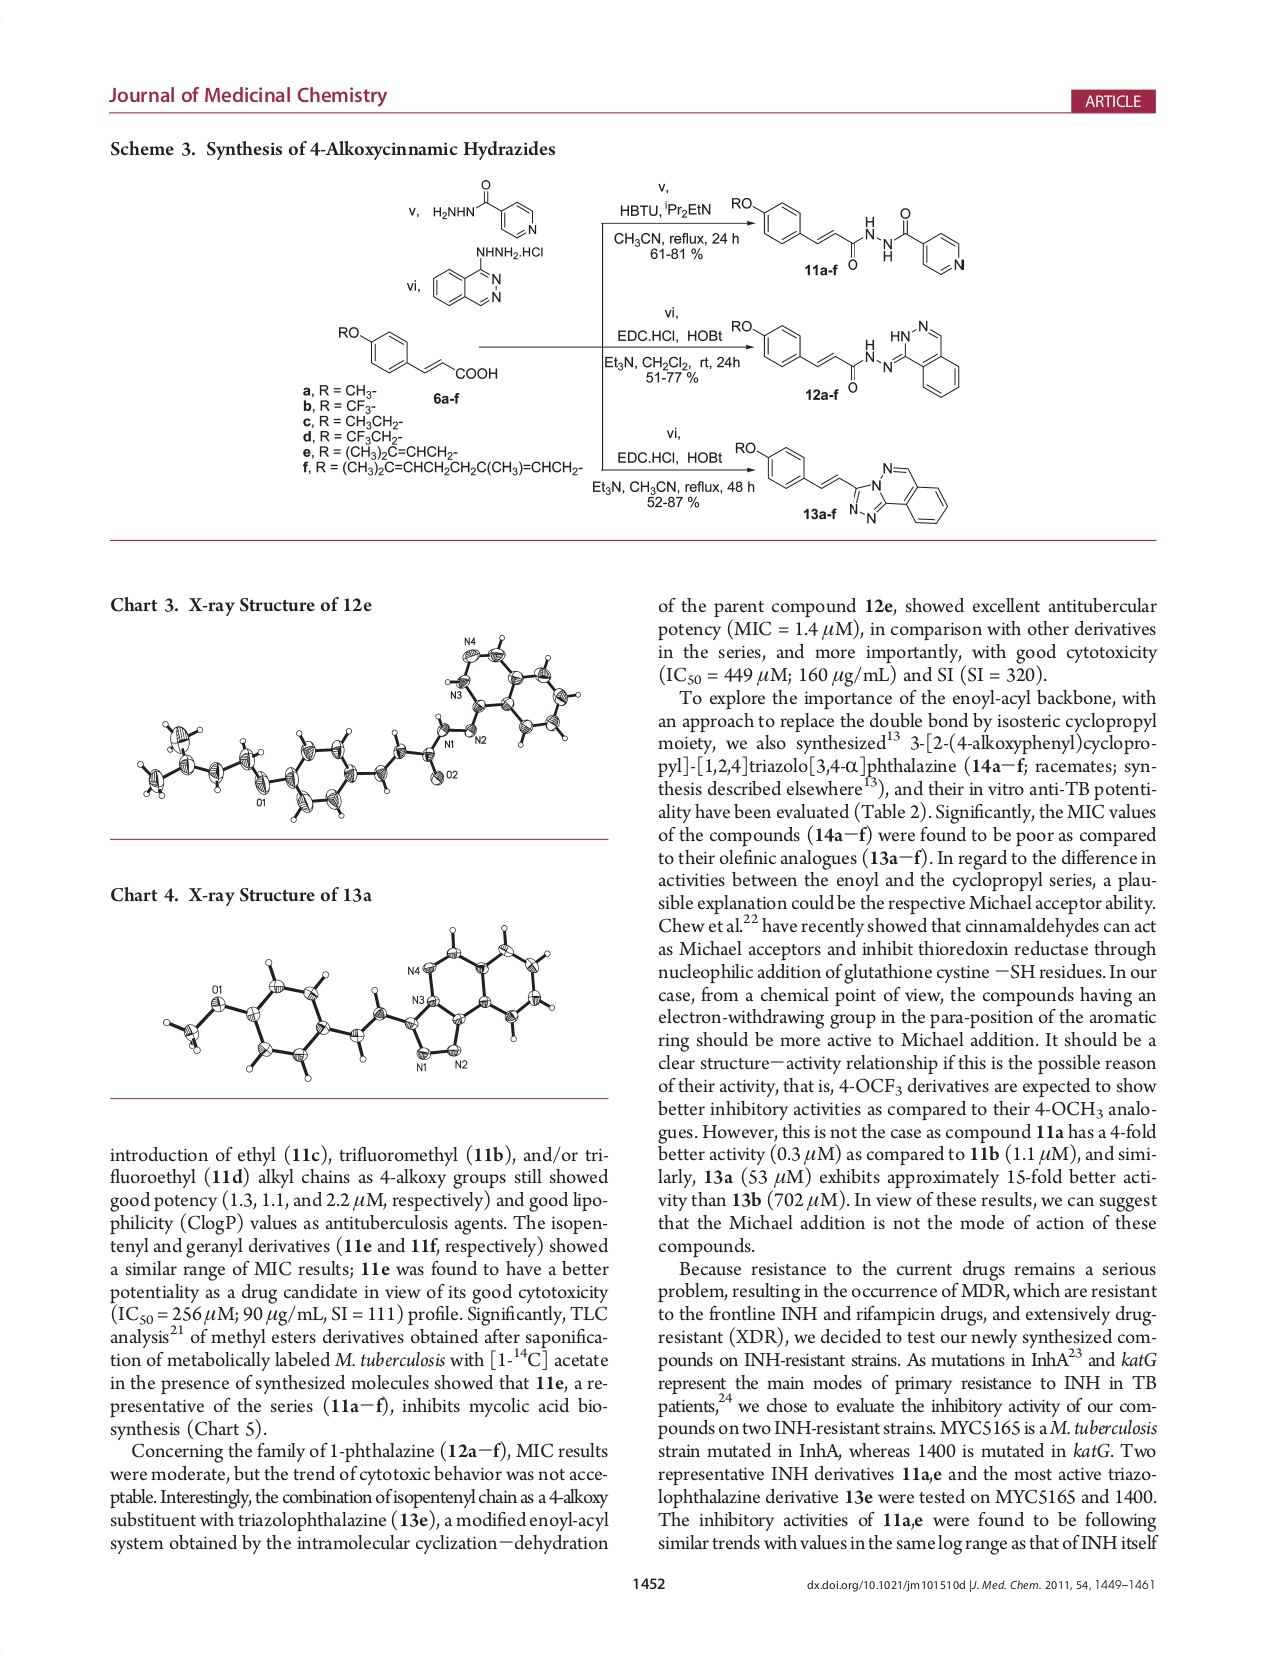exist_molecular: (729, 309, 964, 402), (727, 192, 967, 281), (729, 438, 949, 531), (335, 321, 499, 383), (431, 242, 547, 307), (431, 176, 537, 242)
